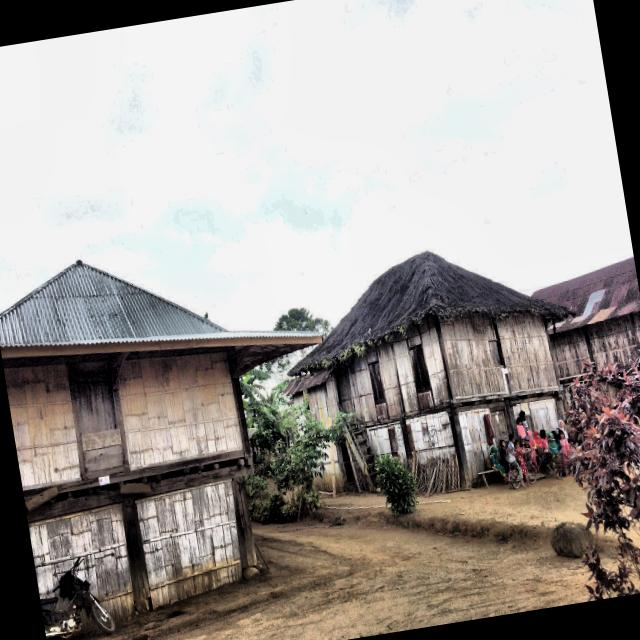column: (119, 499, 151, 602), (232, 476, 257, 568), (445, 407, 471, 488)
roof: (0, 261, 322, 373), (288, 251, 567, 375), (534, 258, 640, 331), (280, 368, 335, 398)
wall: (119, 353, 242, 469), (137, 481, 241, 607), (29, 504, 134, 620), (4, 364, 80, 489), (393, 315, 449, 413), (440, 315, 506, 398), (496, 314, 557, 393), (347, 344, 403, 423), (585, 313, 640, 370), (459, 408, 496, 483), (405, 411, 456, 463), (548, 328, 589, 379), (513, 399, 559, 438), (366, 421, 407, 462)
window: (75, 380, 117, 435), (409, 344, 430, 392), (368, 361, 385, 405), (489, 340, 502, 366), (388, 427, 399, 451)
